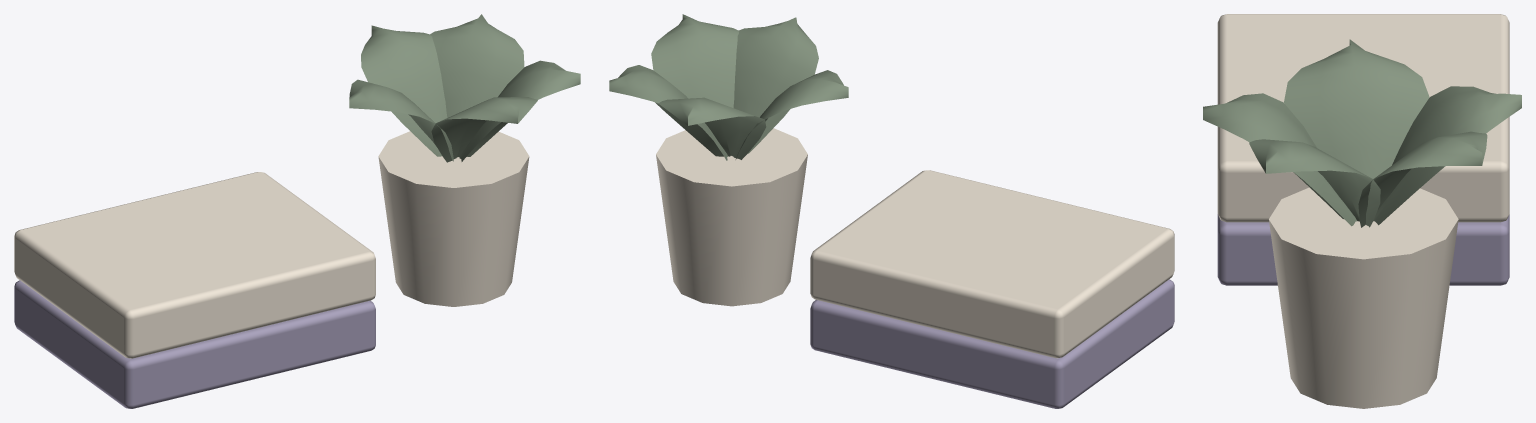
Rendered from suite_books_plant.glb.
The picture shows the model from 3 angles, left to right: view 1: azimuth 30°, elevation 25°; view 2: azimuth 150°, elevation 25°; view 3: azimuth 270°, elevation 25°; orthographic projection. The views are drawn at different scales.
Size of the model in its own units: 0.6582 by 0.2901 by 0.3056.
